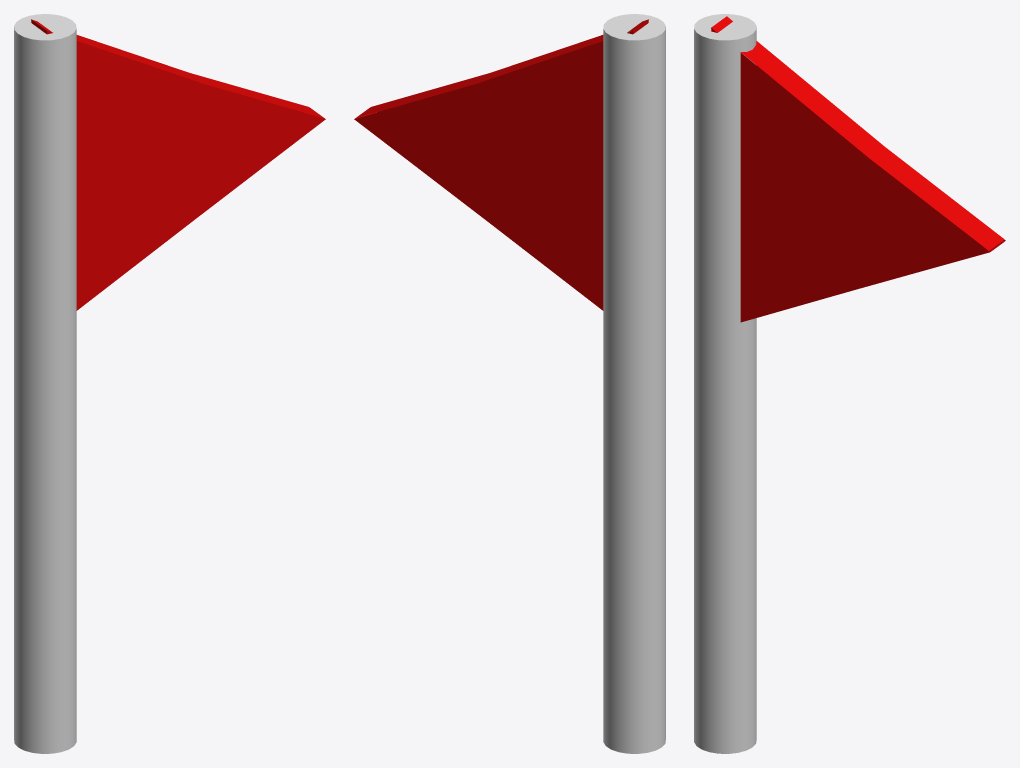
File: GoalFrag.fbx
The picture shows the model from 3 angles, left to right: view 1: azimuth 30°, elevation 25°; view 2: azimuth 150°, elevation 25°; view 3: azimuth 330°, elevation 25°; orthographic projection.
Visible parts, largest first — view 1: pCube2; view 2: pCube2; view 3: pCube2.
Boxes of the visible parts, left/top/right/bottom form: pCube2: left=14, top=14, right=325, bottom=753; pCube2: left=354, top=14, right=665, bottom=753; pCube2: left=694, top=14, right=1005, bottom=753.
Bounding box in the file's own units: 1.1 × 2.51 × 0.2.
